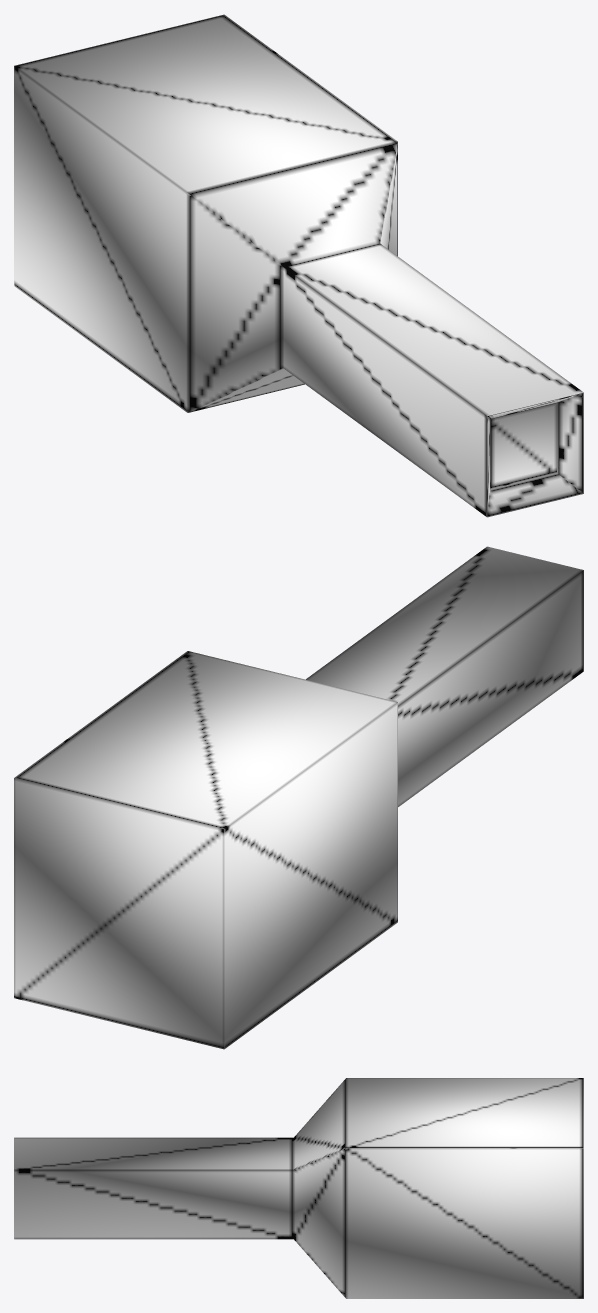
The model's file is gun_Mesh.obj.
3 views of the same model, one above another, from view 1: azimuth 30°, elevation 25°; view 2: azimuth 150°, elevation 25°; view 3: azimuth 270°, elevation 25° (orthographic). The views are drawn at different scales.
Parts seen in each view (by area): view 1: Cube4; view 2: Cube4; view 3: Cube4.
Part boxes in pixels (x1,y1,x2,y2): Cube4: (14, 14, 583, 517); Cube4: (14, 546, 583, 1049); Cube4: (14, 1078, 583, 1298).
Size of the model in its own units: 0.07 by 0.07 by 0.24.
1 material, 1 textured.
